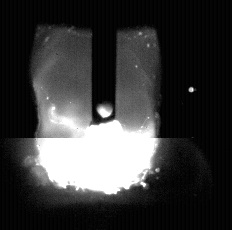arame: (93, 0, 116, 121)
poca: (36, 0, 158, 230)
